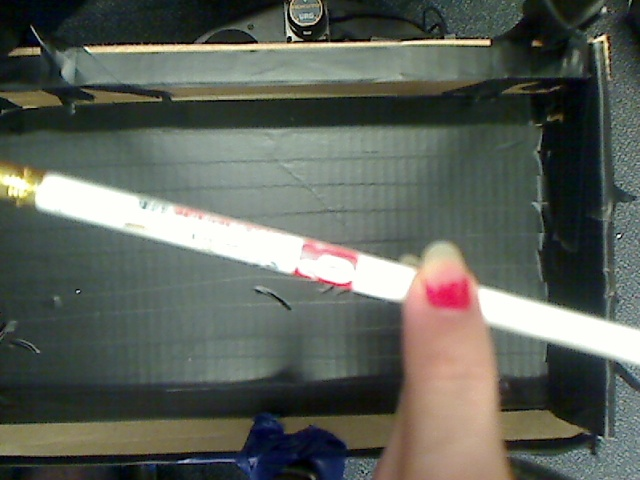pencil: (7, 129, 640, 363)
